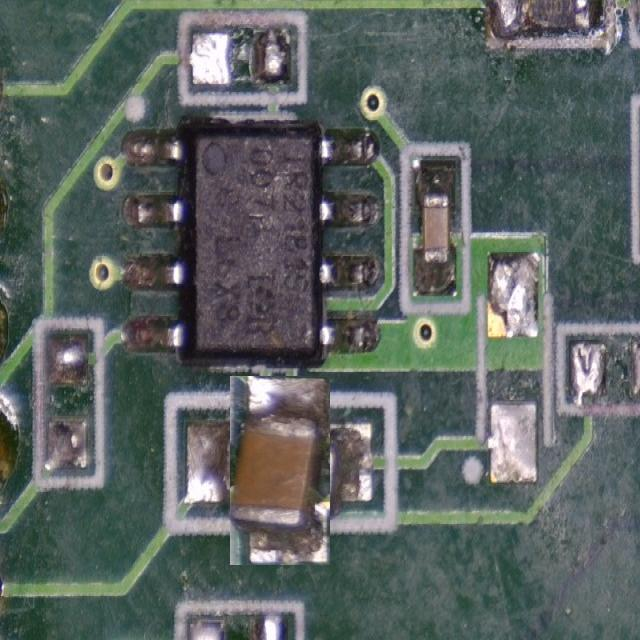Incorrect_installation: (229, 377, 330, 565)
